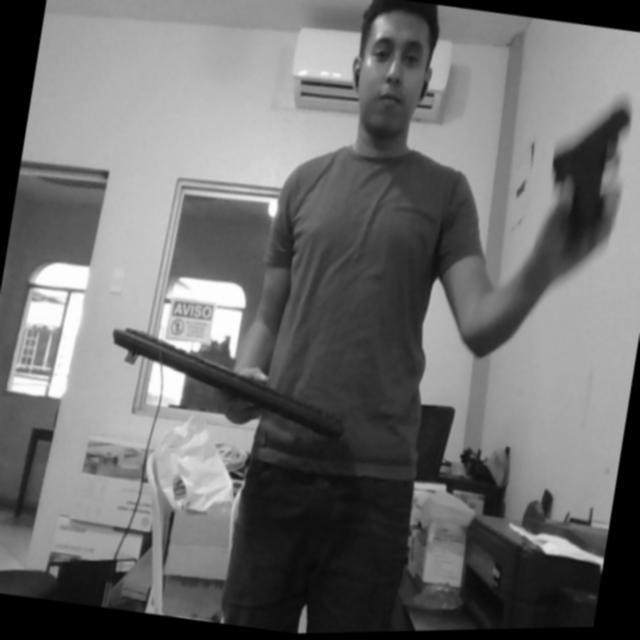weapon: (541, 90, 640, 232)
